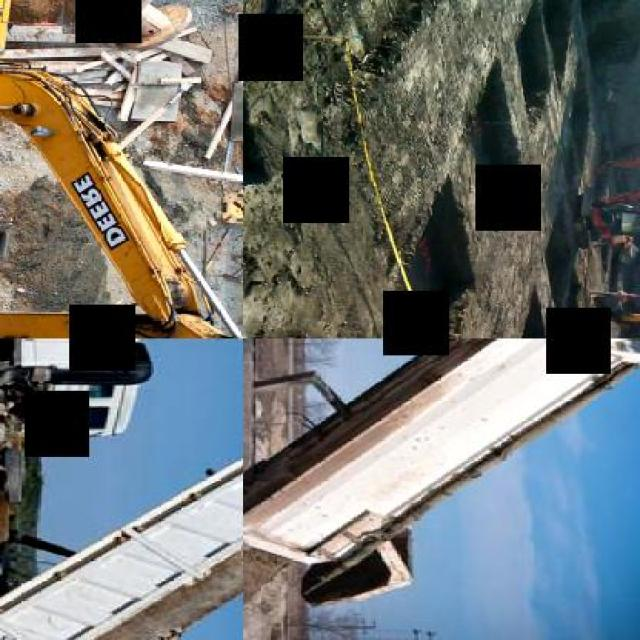dump_truck: (243, 338, 639, 608), (0, 338, 242, 638)
excavator: (0, 0, 242, 337), (571, 154, 638, 246), (556, 292, 638, 337)
